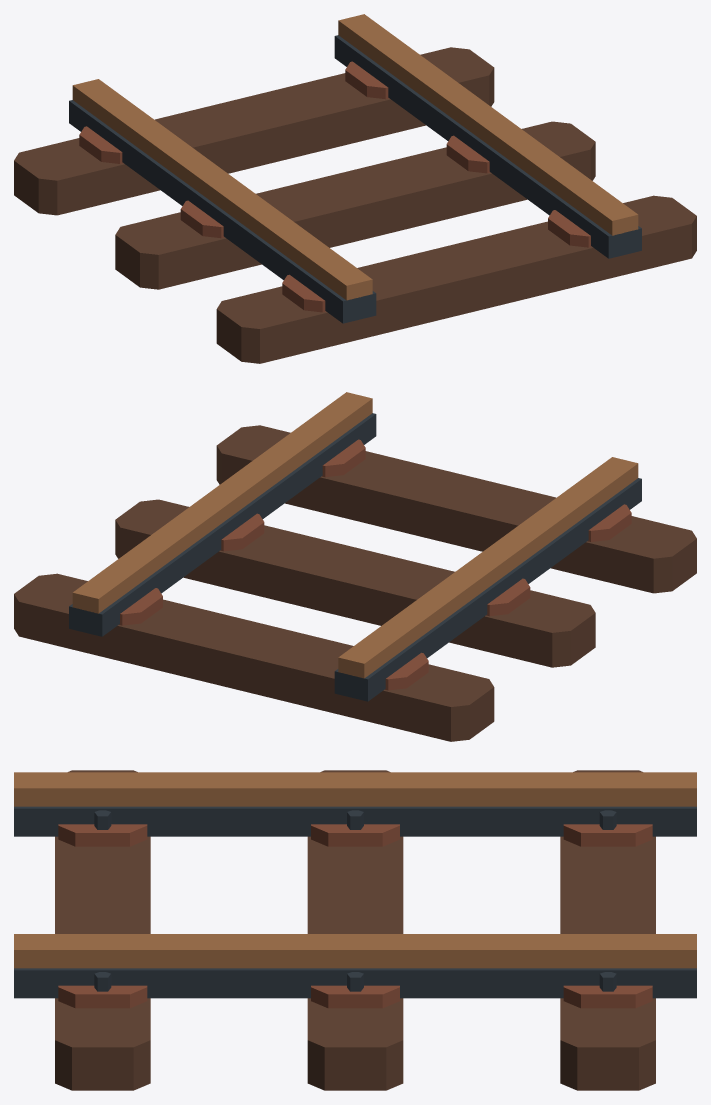
File: rail_straight.glb
3 views of the same model, one above another, from view 1: azimuth 30°, elevation 25°; view 2: azimuth 150°, elevation 25°; view 3: azimuth 270°, elevation 25° (orthographic). The views are drawn at different scales.
Parts seen in each view (by area): view 1: geometry; view 2: geometry; view 3: geometry.
Boxes of the visible parts, x1=… form: geometry: x1=14, y1=14, x2=696, y2=363; geometry: x1=14, y1=392, x2=696, y2=741; geometry: x1=14, y1=770, x2=696, y2=1090.
Bounding box in the file's own units: 0.96 × 0.147 × 1.
